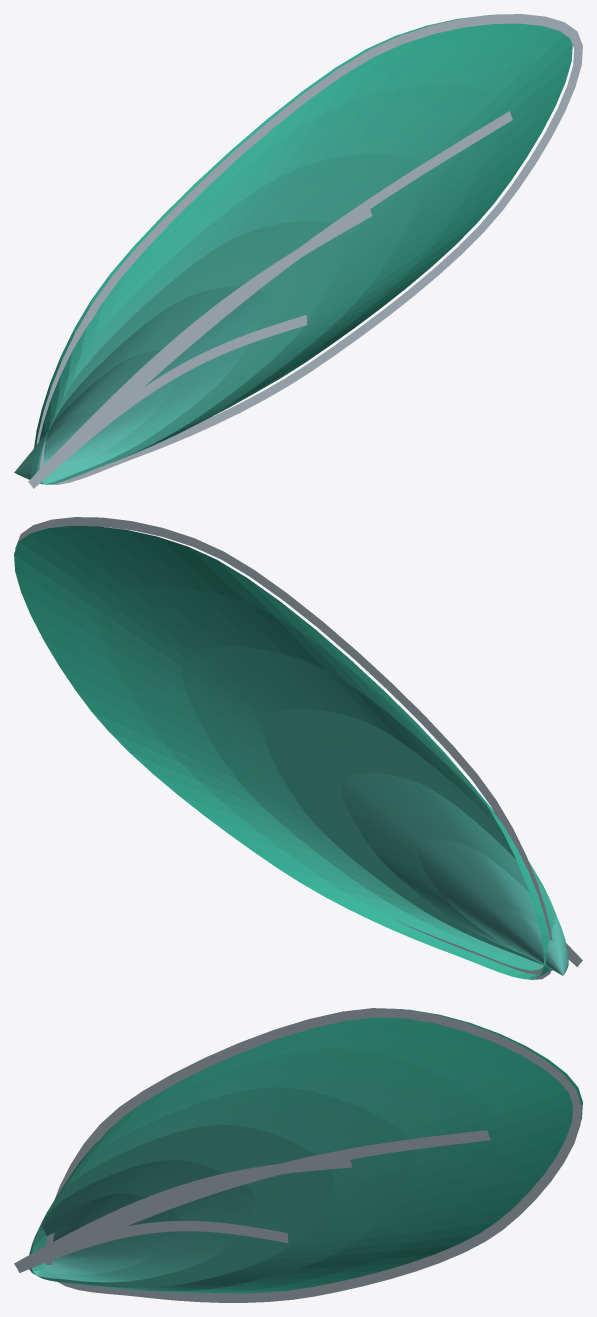
The model's file is Sucrose_AstableAnemohypostasisCreation_ThreeTargets_WindWingUpper1.fbx.
3 renders of one model, top to bottom at view 1: azimuth 30°, elevation 25°; view 2: azimuth 150°, elevation 25°; view 3: azimuth 330°, elevation 25°, orthographic.
Parts seen in each view (by area): view 1: PART_AuthoredWindWing_Upper_1, PART_BrokenWindWingEdge_Upper_1, PART_FlowingWingVein_Upper_1_0, PART_FlowingWingVein_Upper_1_1, PART_FlowingWingVein_Upper_1_2; view 2: PART_AuthoredWindWing_Upper_1, PART_BrokenWindWingEdge_Upper_1; view 3: PART_AuthoredWindWing_Upper_1, PART_BrokenWindWingEdge_Upper_1, PART_FlowingWingVein_Upper_1_0, PART_FlowingWingVein_Upper_1_1, PART_FlowingWingVein_Upper_1_2.
Part boxes in pixels (x1,y1,x2,y2): PART_AuthoredWindWing_Upper_1: (14, 15, 572, 484); PART_BrokenWindWingEdge_Upper_1: (36, 14, 582, 484); PART_FlowingWingVein_Upper_1_0: (28, 111, 512, 488); PART_FlowingWingVein_Upper_1_1: (28, 209, 372, 487); PART_FlowingWingVein_Upper_1_2: (30, 315, 307, 488); PART_AuthoredWindWing_Upper_1: (14, 526, 568, 979); PART_BrokenWindWingEdge_Upper_1: (15, 517, 552, 979); PART_AuthoredWindWing_Upper_1: (29, 1009, 582, 1293); PART_BrokenWindWingEdge_Upper_1: (45, 1008, 581, 1302); PART_FlowingWingVein_Upper_1_0: (14, 1130, 490, 1272); PART_FlowingWingVein_Upper_1_1: (14, 1157, 352, 1272); PART_FlowingWingVein_Upper_1_2: (16, 1221, 288, 1271).
Size of the model in its own units: 230 by 143 by 12.
